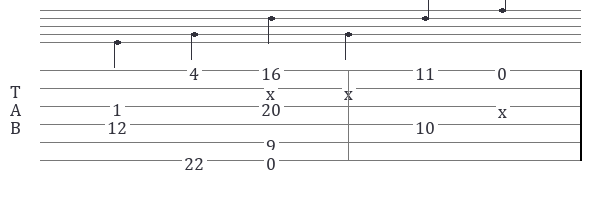0: (266, 152, 280, 168), (497, 62, 511, 78)
1: (112, 98, 126, 114)
10: (415, 116, 439, 132)
11: (415, 62, 439, 78)
12: (107, 116, 131, 132)
16: (261, 62, 285, 78)
20: (261, 98, 285, 114)
22: (184, 152, 208, 168)
4: (189, 62, 203, 78)
9: (266, 134, 280, 150)
x: (266, 82, 279, 95), (344, 82, 357, 95), (498, 100, 511, 113)
